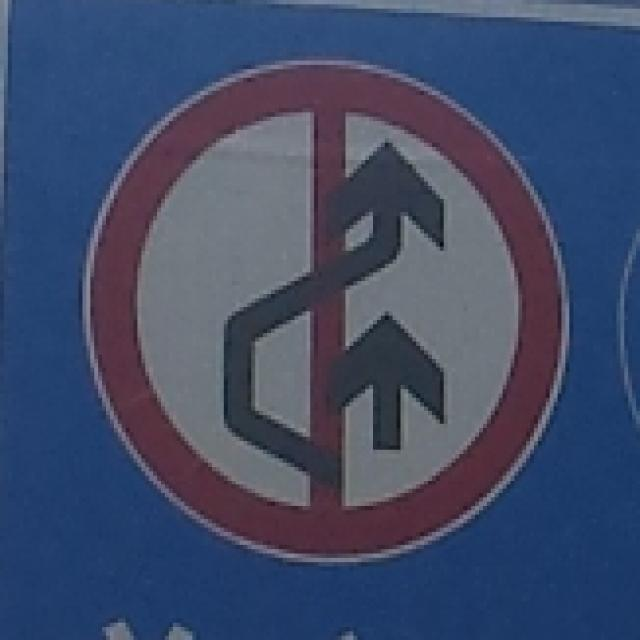Not that Direction: (93, 58, 577, 558)
